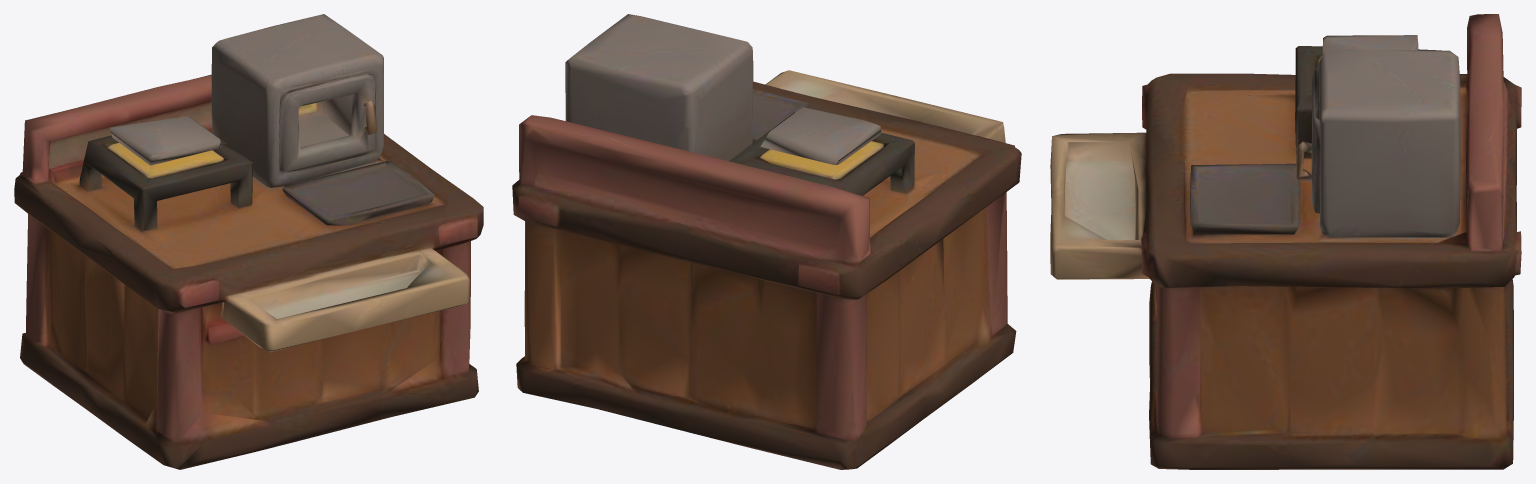
Rendered from TW_사물_s3_dessert_stand_pineapplecake.glb.
3 renders of one model, left to right at view 1: azimuth 30°, elevation 25°; view 2: azimuth 150°, elevation 25°; view 3: azimuth 270°, elevation 25°, orthographic. The views are drawn at different scales.
Visible parts, largest first — view 1: tripo_node_da81d25d-2a8e-4541-8339-b6c5b444ad5f; view 2: tripo_node_da81d25d-2a8e-4541-8339-b6c5b444ad5f; view 3: tripo_node_da81d25d-2a8e-4541-8339-b6c5b444ad5f.
Boxes of the visible parts, <box> form: tripo_node_da81d25d-2a8e-4541-8339-b6c5b444ad5f: <box>14,14,483,469</box>; tripo_node_da81d25d-2a8e-4541-8339-b6c5b444ad5f: <box>512,14,1021,469</box>; tripo_node_da81d25d-2a8e-4541-8339-b6c5b444ad5f: <box>1050,14,1521,469</box>.
Size of the model in its own units: 1.49 by 1.3 by 1.6.
Materials: 1 (1 with a texture image).
